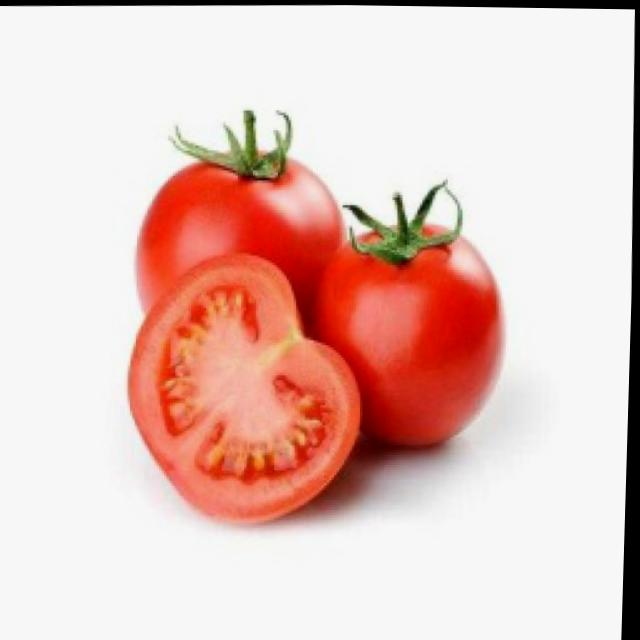tomato: (313, 221, 514, 451), (129, 156, 346, 343)
